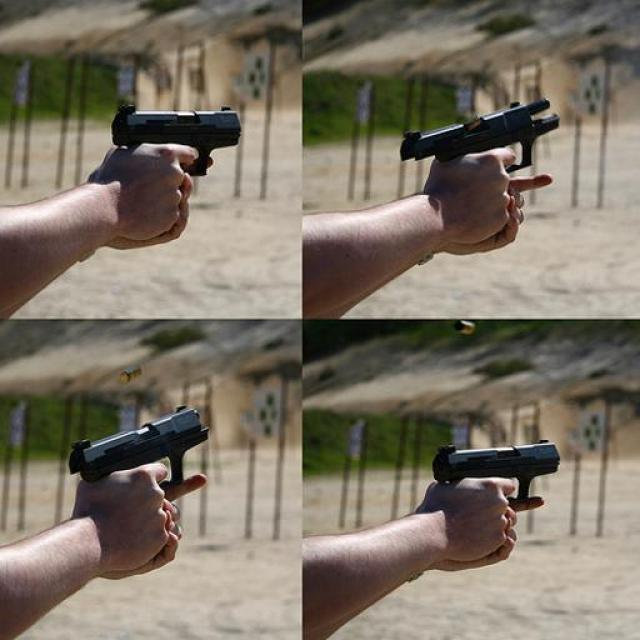pistol: (397, 89, 560, 175), (69, 401, 204, 486), (111, 105, 241, 179), (430, 432, 559, 500)
